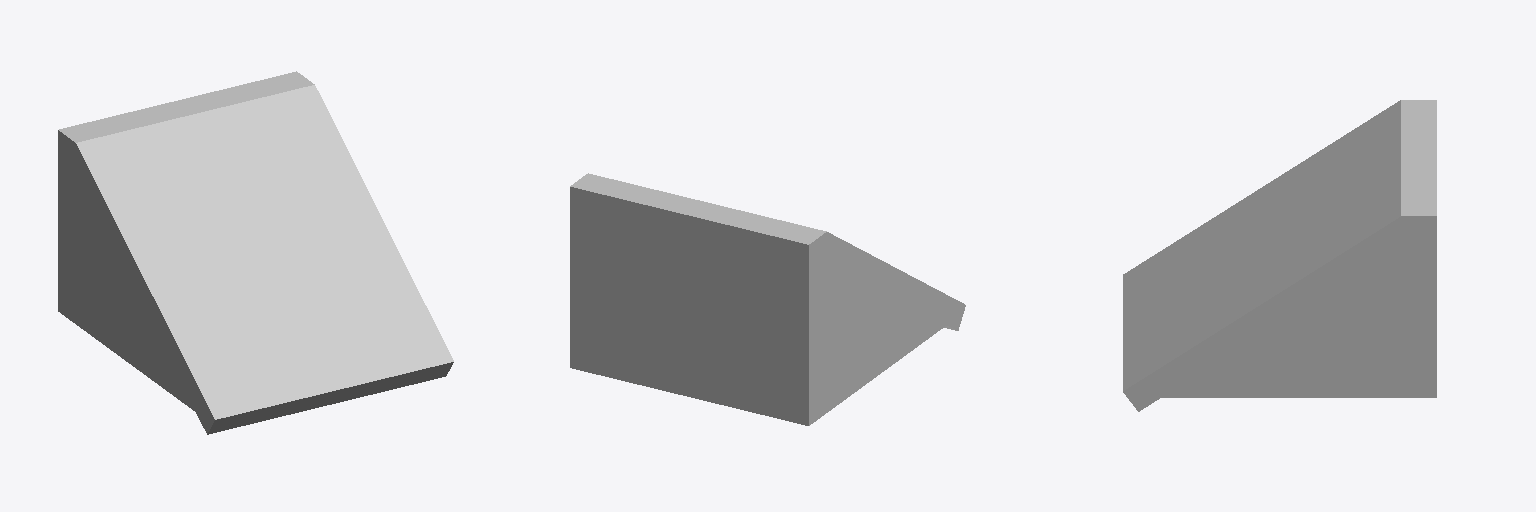
File: roof-slanted.obj
The picture shows the model from 3 angles: view 1: azimuth 30°, elevation 25°; view 2: azimuth 150°, elevation 25°; view 3: azimuth 270°, elevation 25°; orthographic projection.
Visible parts, largest first — view 1: roof-slanted; view 2: roof-slanted; view 3: roof-slanted.
Part boxes in pixels (bbox=[...]): roof-slanted: bbox=[58, 71, 453, 434]; roof-slanted: bbox=[570, 173, 965, 425]; roof-slanted: bbox=[1123, 100, 1436, 411].
Size of the model in its own units: 1 by 0.782 by 1.14.